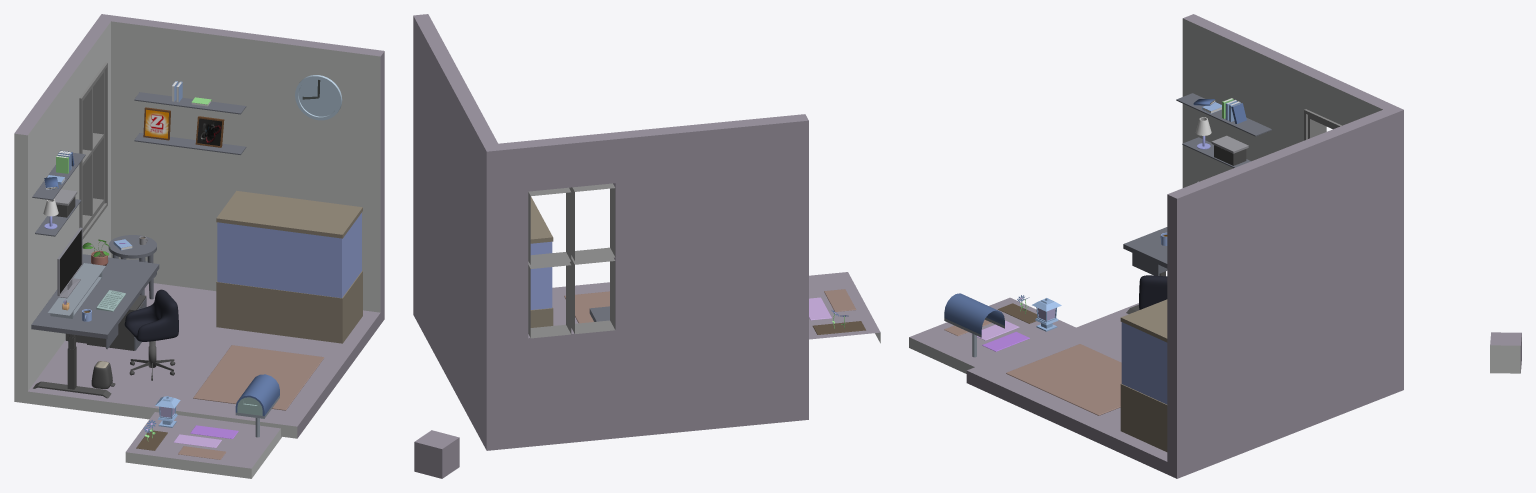
The model's file is room7.glb.
3 renders of one model, left to right at view 1: azimuth 30°, elevation 25°; view 2: azimuth 150°, elevation 25°; view 3: azimuth 270°, elevation 25°, orthographic. The views are drawn at different scales.
Parts seen in each view (by area): view 1: Body, Aquarium, Desks, Floor Items, Mini Floor, Shelves, Table Stuff, Chair, Clock, Mailbox, Computer, Shelves2 (+5 smaller); view 2: Body, Mini Floor, Aquarium, Cube, Floor Items, Dirt, FloorThird; view 3: Body, Aquarium, Floor Items, Mini Floor, Shelves, Mailbox, Desks, Cube, Chair, Lamp.
Part boxes in pixels (<box>): Body: <box>14,14,384,438</box>; Aquarium: <box>216,190,362,343</box>; Desks: <box>31,235,159,398</box>; Floor Items: <box>87,295,324,410</box>; Mini Floor: <box>125,412,281,478</box>; Shelves: <box>32,81,246,236</box>; Table Stuff: <box>48,236,147,321</box>; Chair: <box>124,289,178,341</box>; Clock: <box>295,75,342,120</box>; Mailbox: <box>235,374,279,437</box>; Computer: <box>57,227,82,298</box>; Shelves2: <box>143,107,170,140</box>; Body: <box>413,14,808,450</box>; Mini Floor: <box>809,272,880,343</box>; Aquarium: <box>530,196,553,327</box>; Cube: <box>414,430,459,478</box>; Floor Items: <box>564,291,609,323</box>; Dirt: <box>812,321,865,334</box>; FloorThird: <box>824,289,856,311</box>; Body: <box>966,14,1403,478</box>; Aquarium: <box>1120,299,1167,451</box>; Floor Items: <box>1006,344,1121,415</box>; Mini Floor: <box>909,297,1075,373</box>; Shelves: <box>1176,93,1271,167</box>; Mailbox: <box>944,293,1004,357</box>; Desks: <box>1123,227,1167,313</box>; Cube: <box>1490,332,1521,373</box>; Chair: <box>1139,275,1167,309</box>; Lamp: <box>1032,298,1061,331</box>.
Size of the model in its own units: 27.58 by 19.65 by 38.64.
44 materials, 2 textured.
